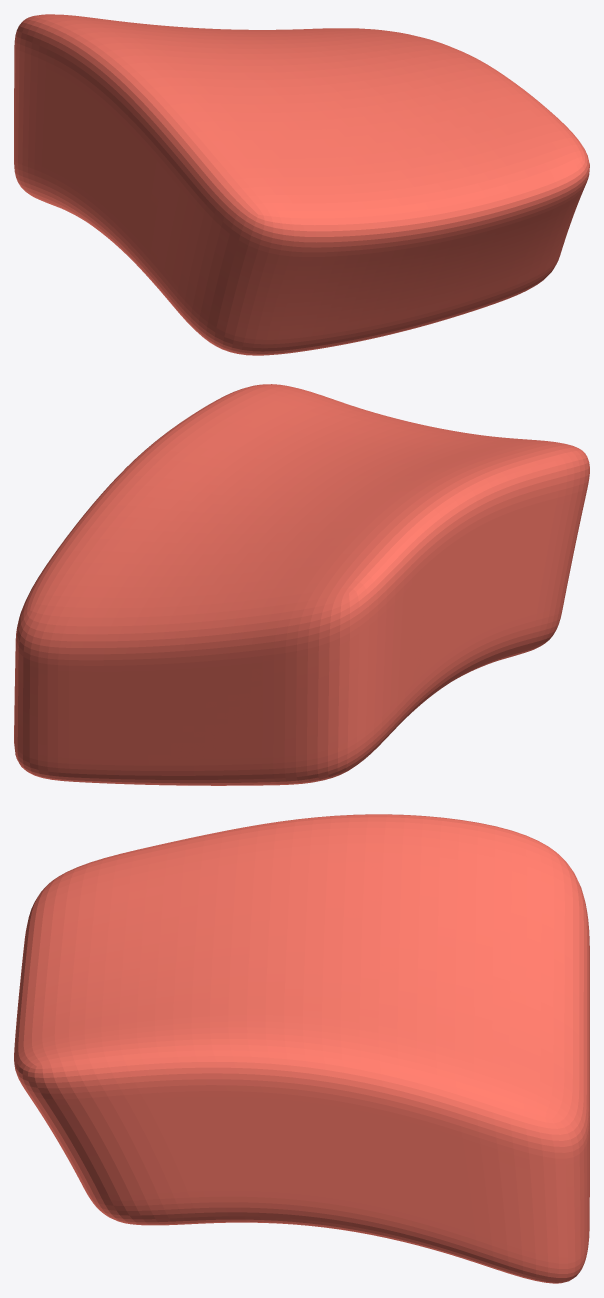
3 renders of one model, top to bottom at view 1: azimuth 30°, elevation 25°; view 2: azimuth 150°, elevation 25°; view 3: azimuth 270°, elevation 25°, orthographic. The views are drawn at different scales.
Parts seen in each view (by area): view 1: waves_1.042; view 2: waves_1.042; view 3: waves_1.042.
Part boxes in pixels (x1,y1,x2,y2): waves_1.042: [14, 14, 589, 355]; waves_1.042: [14, 384, 589, 785]; waves_1.042: [14, 814, 589, 1283].
Bounding box in the file's own units: 30.1 × 22.09 × 38.38.
